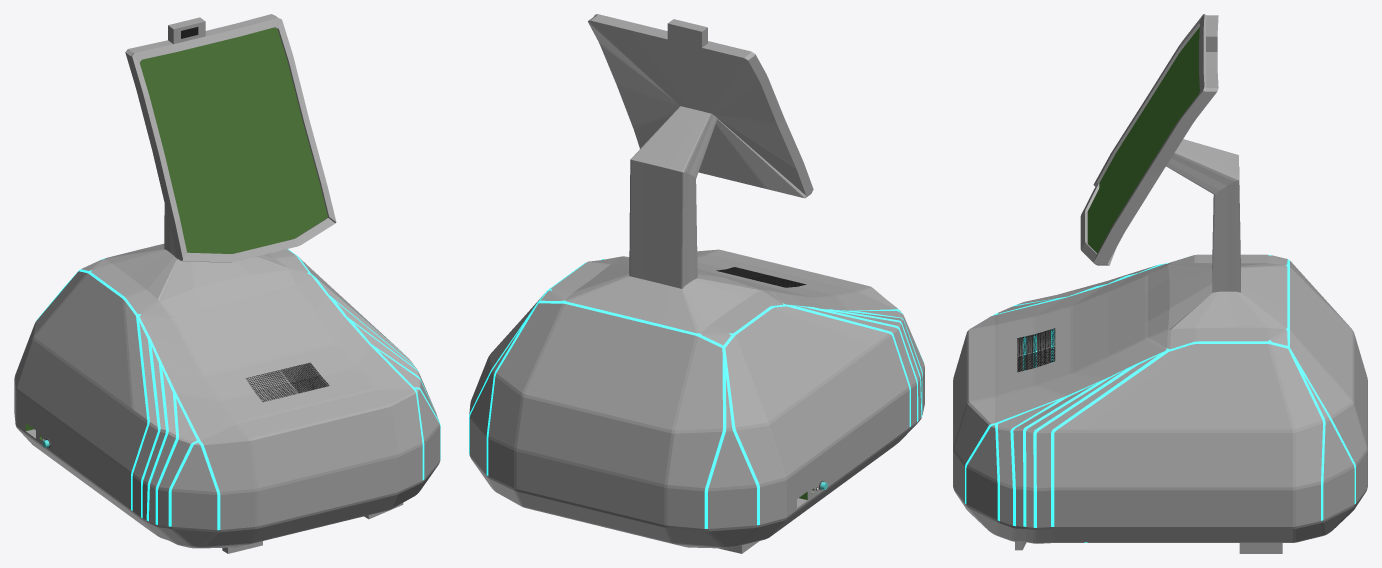
The model's file is concierge.glb.
3 views of the same model, side by side, from view 1: azimuth 30°, elevation 25°; view 2: azimuth 150°, elevation 25°; view 3: azimuth 270°, elevation 25° (orthographic). The views are drawn at different scales.
Visible parts, largest first — view 1: Cube; view 2: Cube; view 3: Cube.
Boxes of the visible parts, bbox=[...] form: Cube: bbox=[14, 14, 440, 553]; Cube: bbox=[469, 14, 924, 553]; Cube: bbox=[953, 14, 1367, 553].
Size of the model in its own units: 0.7327 by 1.05 by 0.8444.
